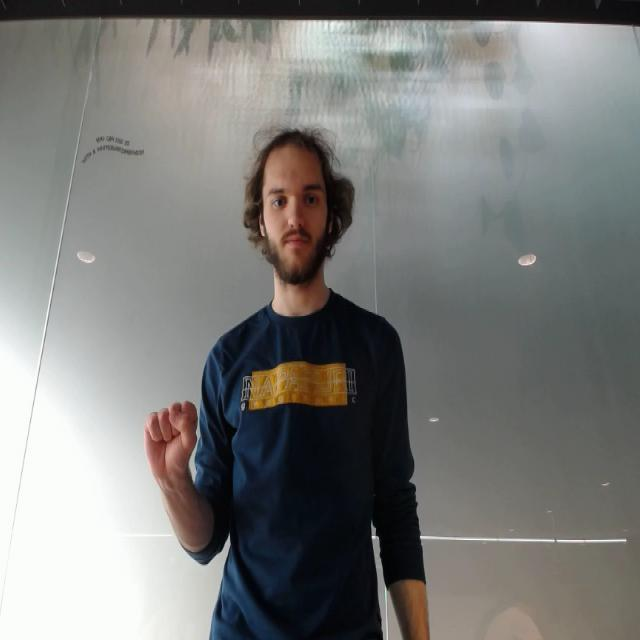stop: (140, 392, 200, 467)
